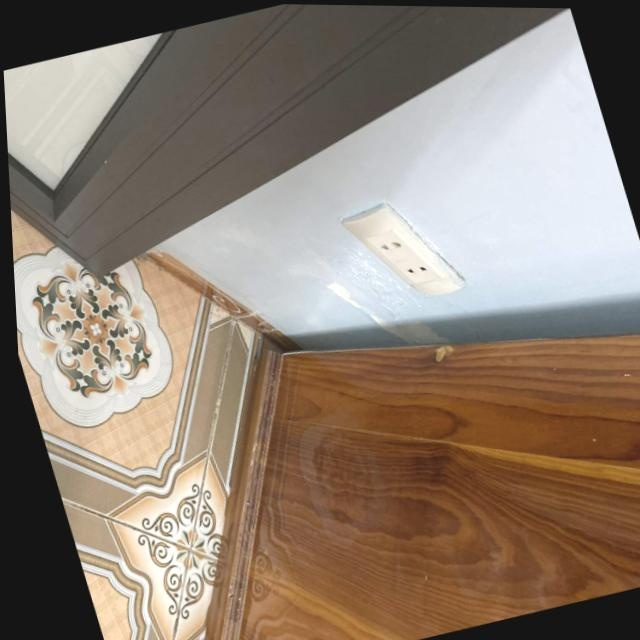outlet: (337, 188, 468, 313)
